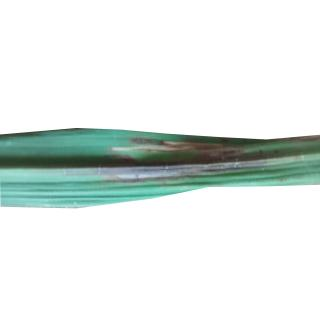Hawar-Daun: (129, 130, 254, 185)
